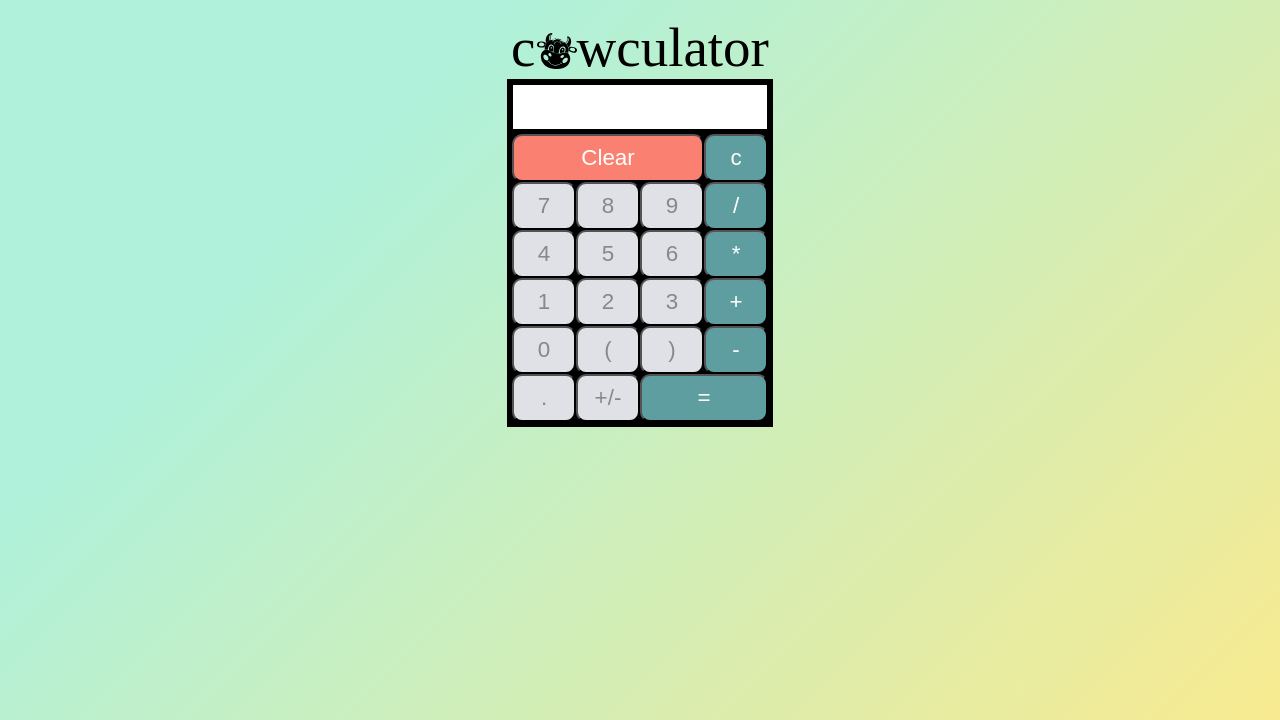
Calculator › should be able to multiply three numbers
Click the button named "5" at (608, 254), box [576,230,640,278]
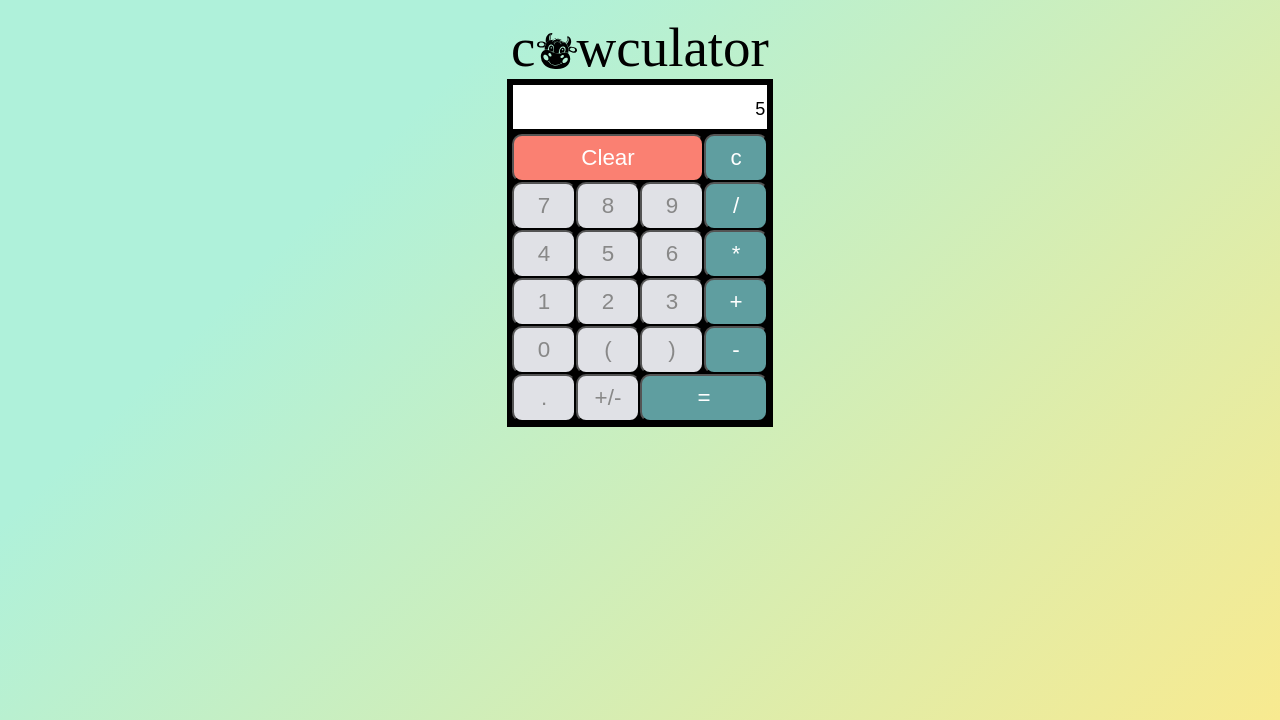
Click the button named "*" at (736, 254), box [704,230,768,278]
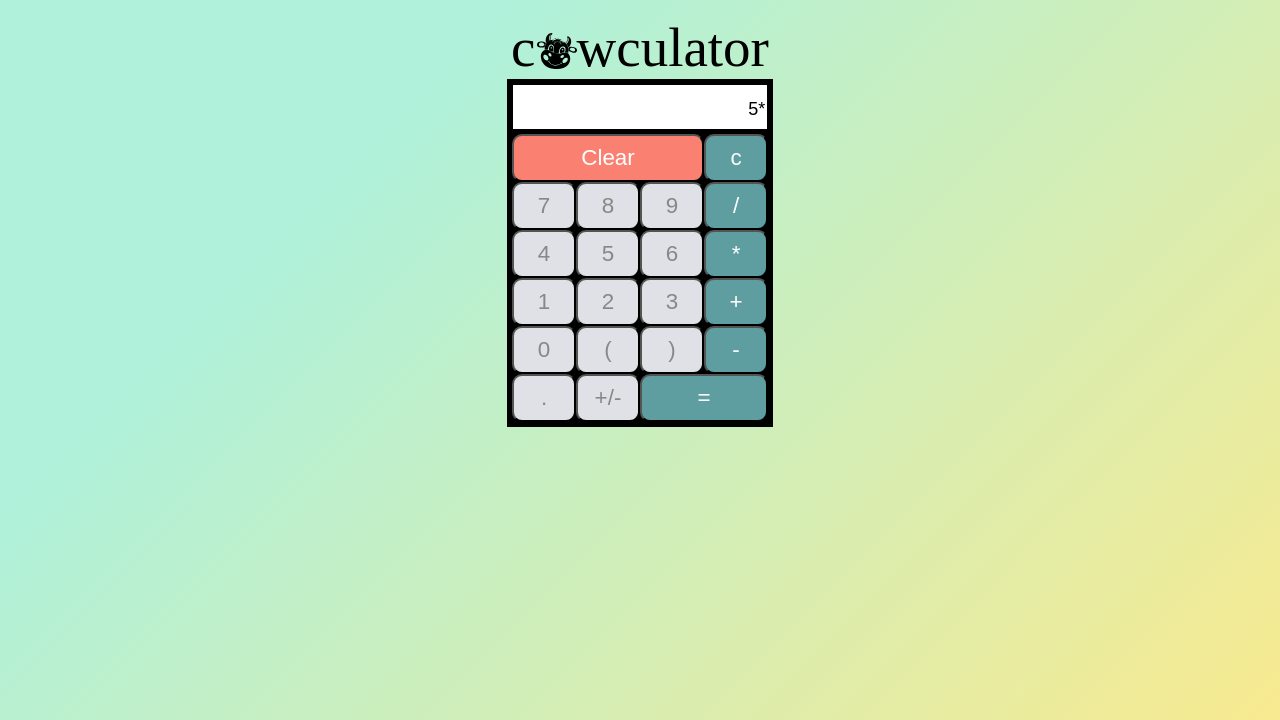
Click the button named "2" at (608, 302), box [576,278,640,326]
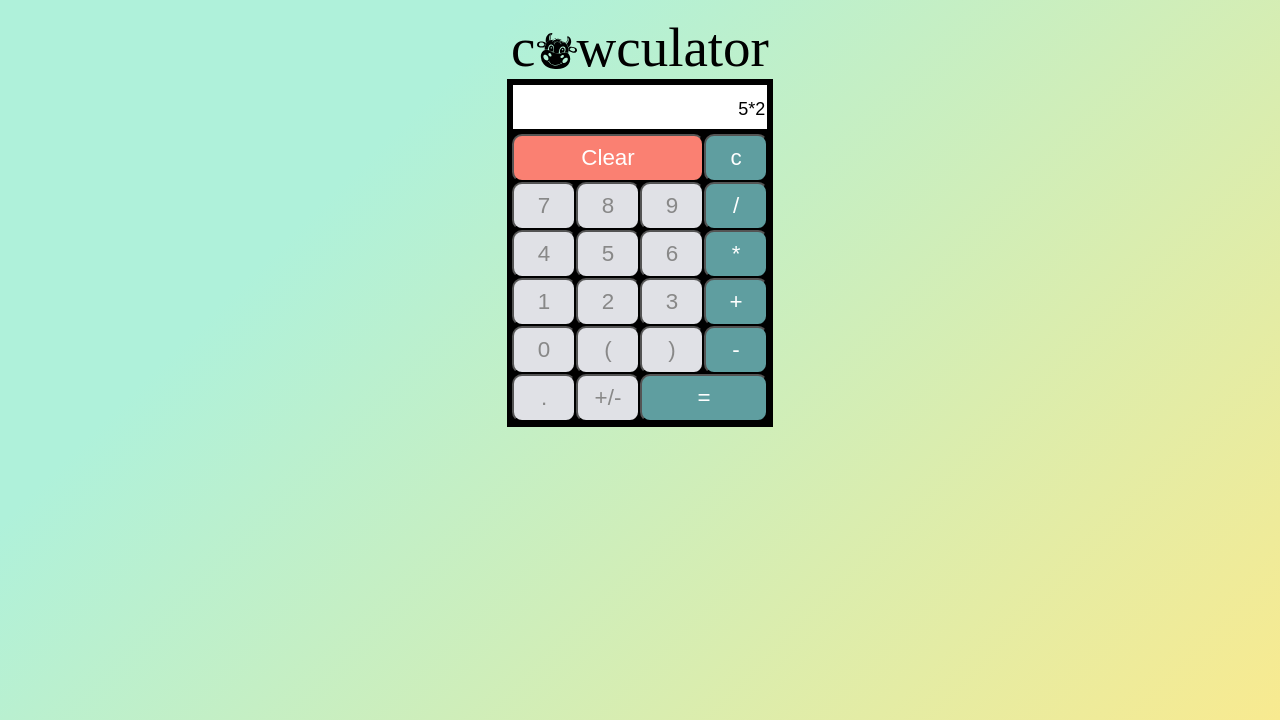
Click the button named "*" at (736, 254), box [704,230,768,278]
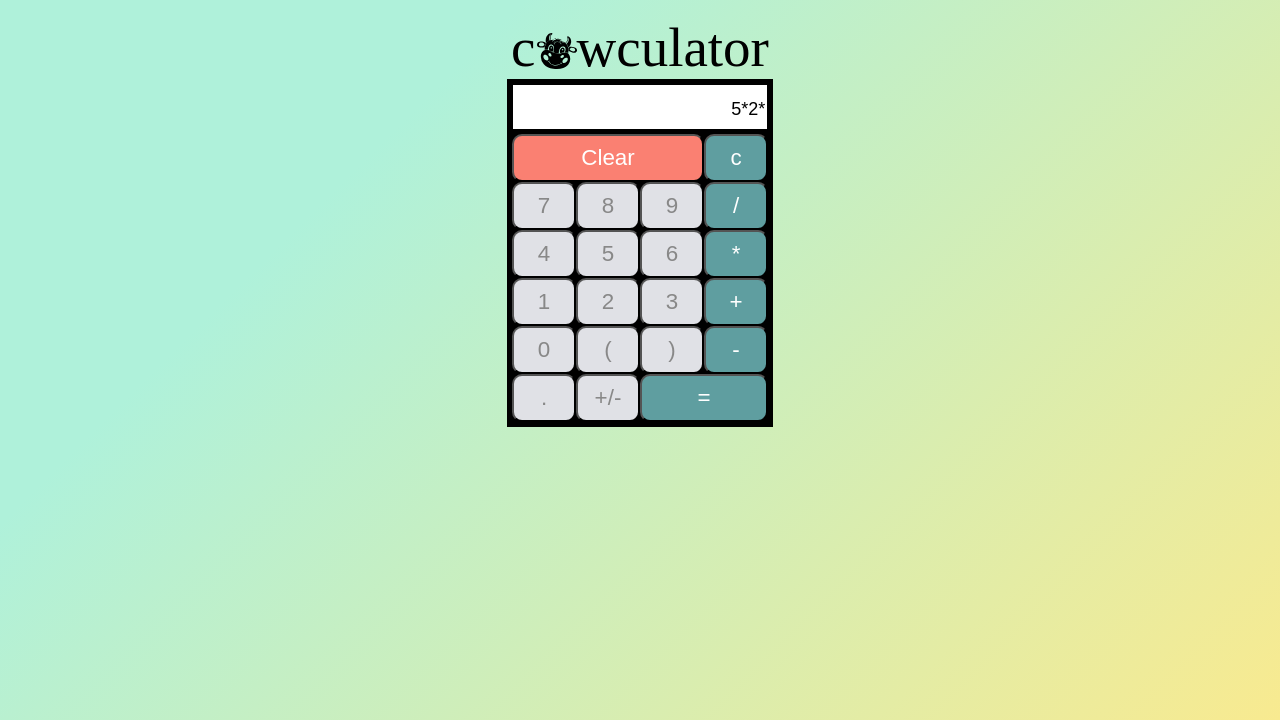
Click the button named "3" at (672, 302), box [640,278,704,326]
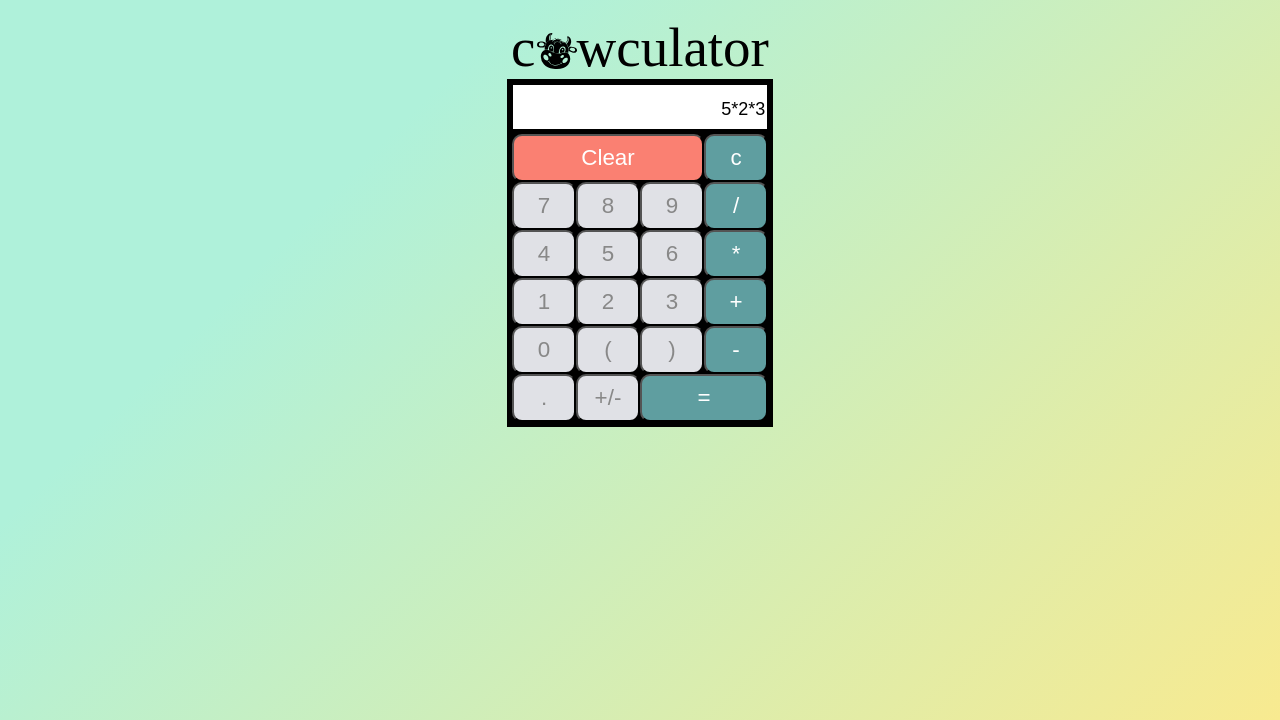
Click the button named "=" at (704, 398), box [640,374,768,422]
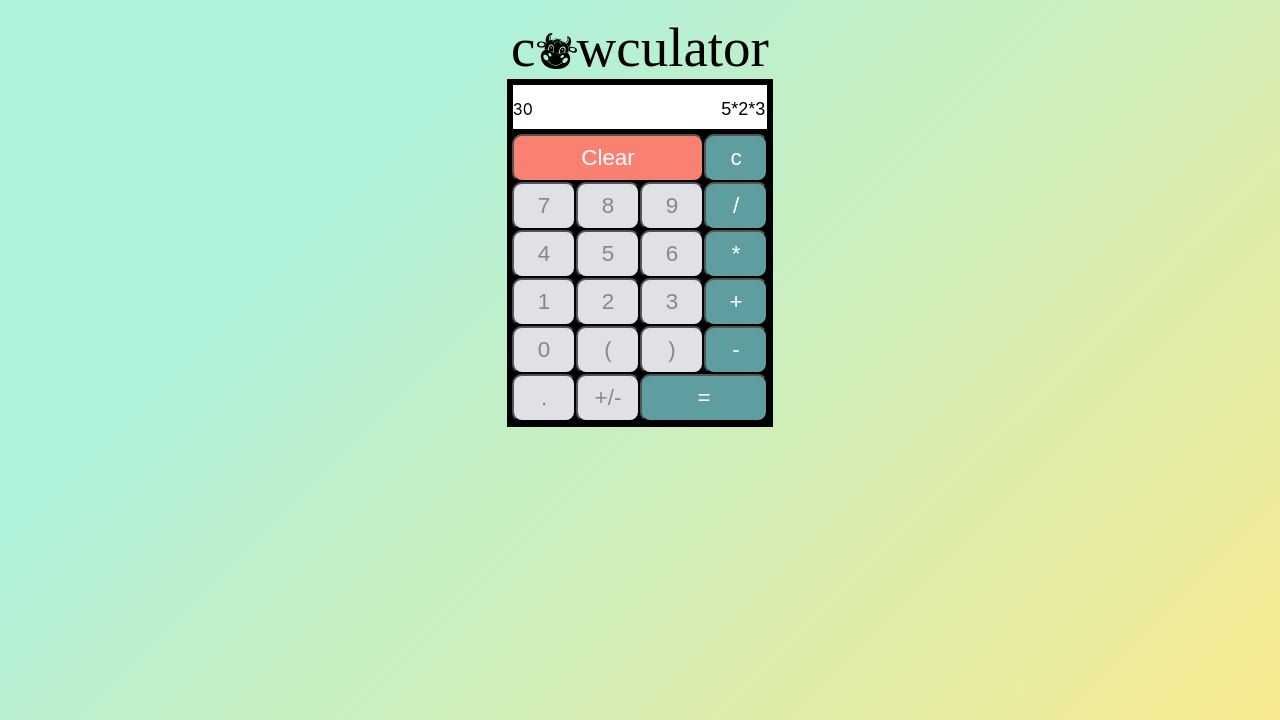
Check: the text "30" is shown, box [513,99,533,119]
